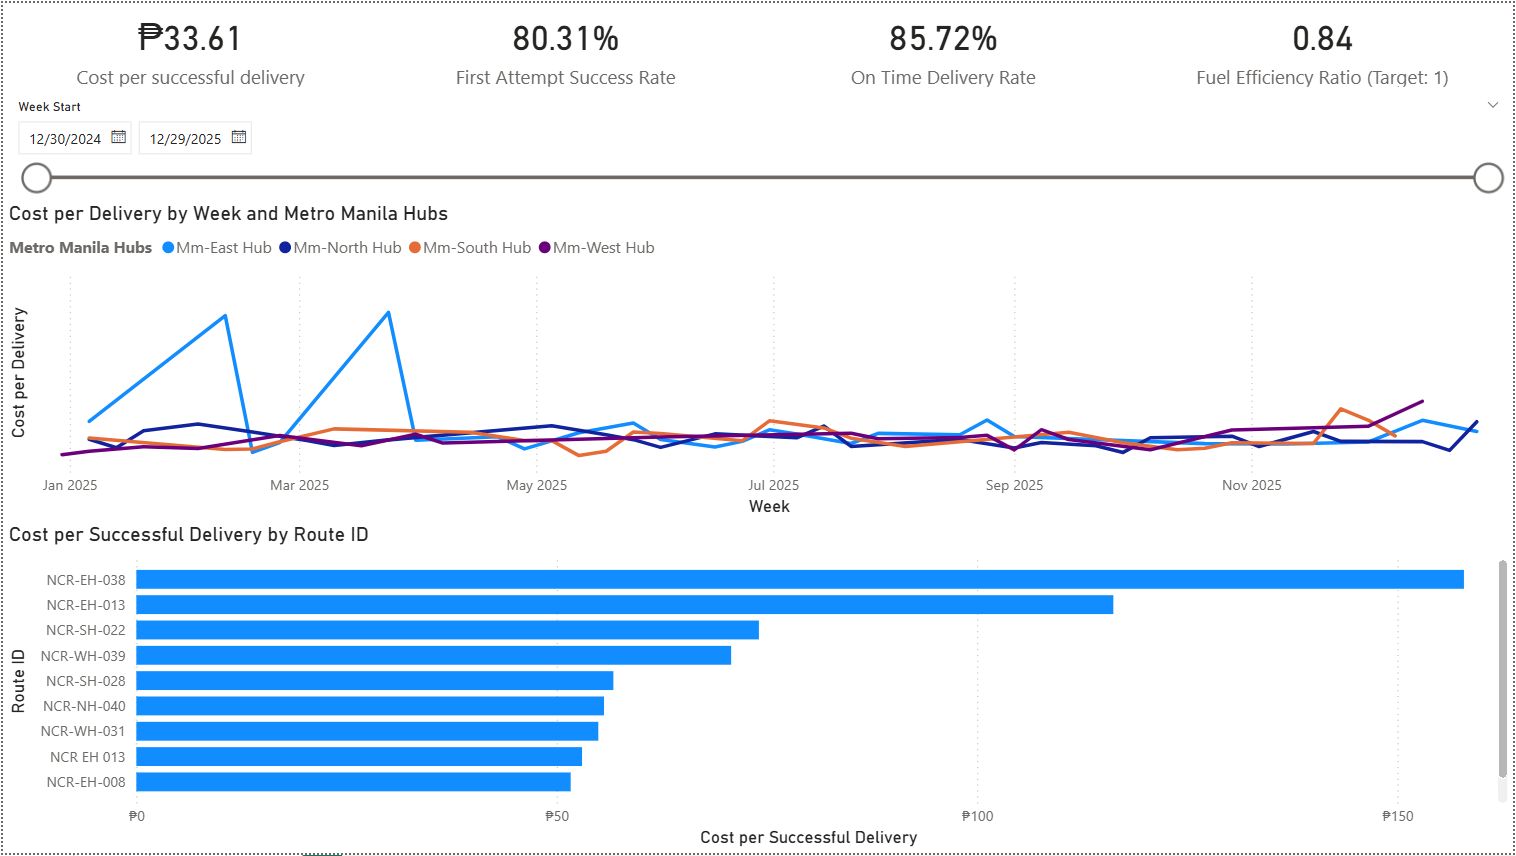

The dashboard page shown, as its layout file describes it:
{"tool":"powerbi","page":{"name":"Page 1","canvas":[1280,720],"ordinal":0},"visuals":[{"type":"card","fields":{"Values":["kpi_table_powerbi_filled_plausible_final.KPI 1 Cost per Successful Delivery (PHP)"]},"box":[0,0,317.9,75.9],"z":0},{"type":"card","fields":{"Values":["kpi_table_powerbi_filled_plausible_final.KPI_2 First Attempt Success Rate"]},"box":[318.1,0,318.1,75.9],"z":1000},{"type":"card","fields":{"Values":["kpi_table_powerbi_filled_plausible_final.KPI_3 On-Time Delivery Rate"]},"box":[636.1,0,321,75.9],"z":2000},{"type":"card","fields":{"Values":["kpi_table_powerbi_filled_plausible_final.KPI4 Fuel Efficiency vs Standard"]},"box":[957.1,0,322.9,75.9],"z":3000},{"type":"lineChart","fields":{"Series":["kpi_table_powerbi_filled_plausible_final.hub_name"],"Y":["kpi_table_powerbi_filled_plausible_final.KPI 1 Cost per Successful Delivery (PHP)"],"Category":["kpi_table_powerbi_filled_plausible_final.Week Start"]},"box":[0,168,1280,272],"z":4000},{"type":"slicer","fields":{"Values":["kpi_table_powerbi_filled_plausible_final.Week Start"]},"box":[0,75.9,1280,91.4],"z":5000},{"type":"barChart","fields":{"Category":["kpi_table_powerbi_filled_plausible_final.route_id"],"Y":["kpi_table_powerbi_filled_plausible_final.KPI 1 Cost per Successful Delivery (PHP)"]},"box":[0,440,1280,280],"z":6000}]}

Visuals, with their boxes in screenshot pixels (x1, y1, x2, y2), scaled from the page's 1280x720 canvas onto the 1516x856 screenshot:
card - kpi_table_powerbi_filled_plausible_final.KPI 1 Cost per Successful Delivery (PHP): crop(0, 0, 377, 90)
card - kpi_table_powerbi_filled_plausible_final.KPI_2 First Attempt Success Rate: crop(377, 0, 753, 90)
card - kpi_table_powerbi_filled_plausible_final.KPI_3 On-Time Delivery Rate: crop(753, 0, 1134, 90)
card - kpi_table_powerbi_filled_plausible_final.KPI4 Fuel Efficiency vs Standard: crop(1134, 0, 1515, 90)
lineChart - kpi_table_powerbi_filled_plausible_final.hub_name x kpi_table_powerbi_filled_plausible_final.KPI 1 Cost per Successful Delivery (PHP): crop(0, 200, 1515, 523)
slicer - kpi_table_powerbi_filled_plausible_final.Week Start: crop(0, 90, 1515, 199)
barChart - kpi_table_powerbi_filled_plausible_final.route_id x kpi_table_powerbi_filled_plausible_final.KPI 1 Cost per Successful Delivery (PHP): crop(0, 523, 1515, 855)
